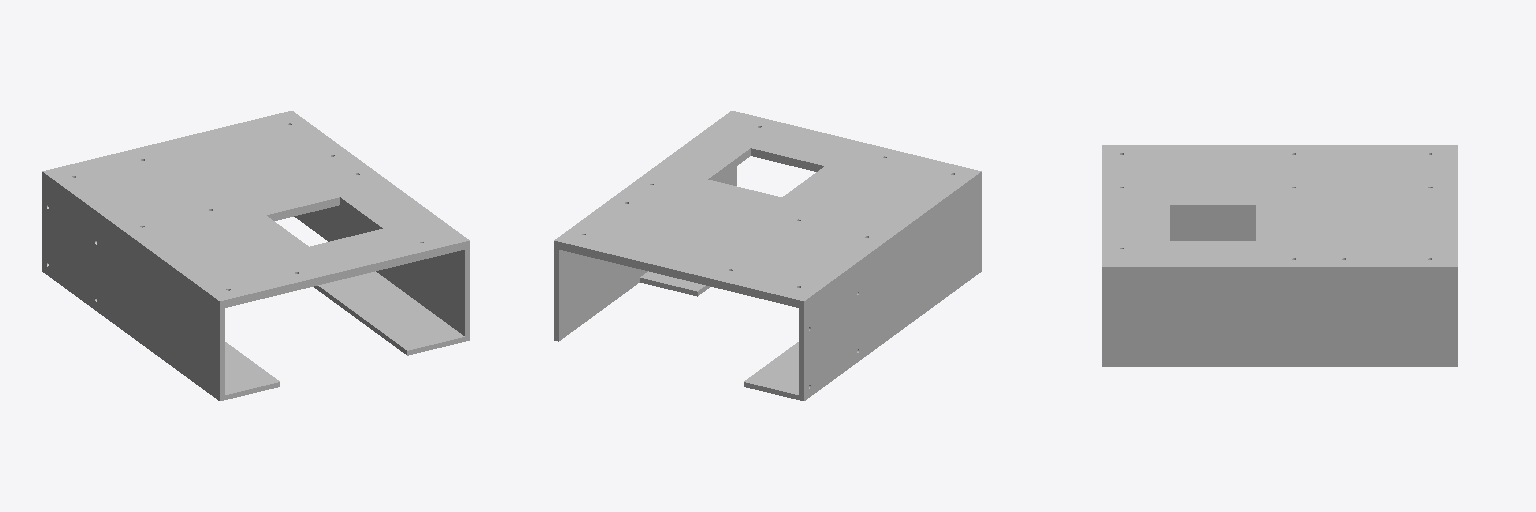
File: Case.obj
The picture shows the model from 3 angles: view 1: azimuth 30°, elevation 25°; view 2: azimuth 150°, elevation 25°; view 3: azimuth 270°, elevation 25°; orthographic projection.
Visible parts, largest first — view 1: obj_0; view 2: obj_0; view 3: obj_0.
Boxes of the visible parts, box(x1,y1,x2,y2) form: obj_0: box(42, 111, 469, 400); obj_0: box(554, 111, 981, 400); obj_0: box(1102, 145, 1457, 366).
Bounding box in the file's own units: 2.64 × 1.01 × 3.25.